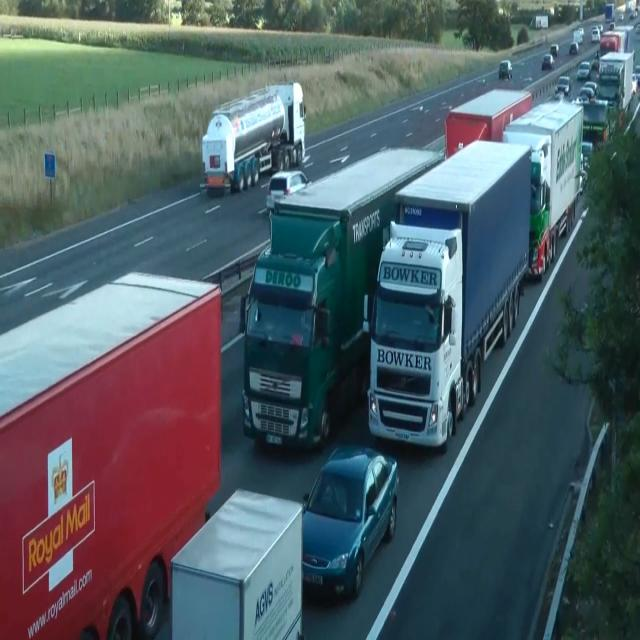bus: (301, 443, 399, 601), (265, 170, 309, 214), (555, 75, 571, 97), (581, 141, 593, 170), (578, 87, 596, 103), (498, 60, 512, 80), (577, 61, 591, 80), (542, 52, 554, 70), (584, 82, 598, 96), (631, 72, 639, 96), (573, 28, 583, 44), (569, 41, 579, 54), (550, 43, 559, 57), (591, 28, 600, 42), (629, 9, 637, 19), (578, 28, 584, 38), (617, 12, 623, 20), (609, 22, 615, 30)
car: (238, 144, 444, 451)
minibus: (0, 270, 222, 638), (364, 138, 532, 450), (170, 487, 304, 639), (502, 98, 584, 280), (200, 81, 306, 195), (444, 87, 533, 161), (595, 50, 635, 113), (571, 95, 610, 149), (598, 29, 628, 59)
